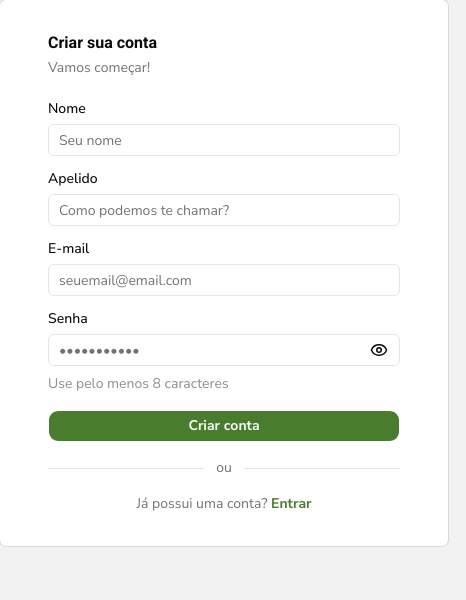
Scenario: RegisterForm › displays API error messages without navigating
The width and height of the screenshot is (466, 600).
Type "Maria Silva" into the field labelled "Nome" at (224, 140), box x1=48 y1=124 x2=400 y2=156
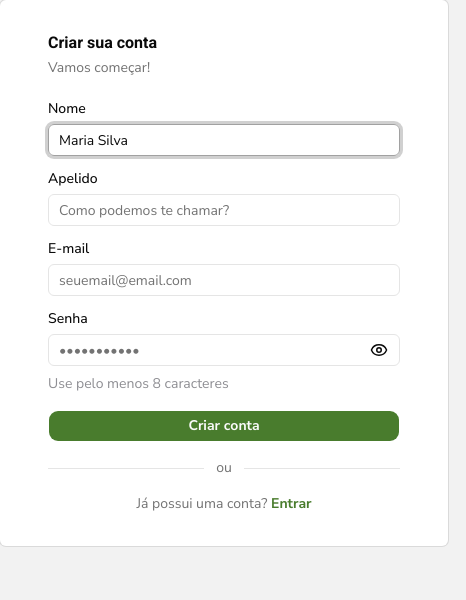
Type "Maria" into the field labelled "Apelido" at (224, 210), box x1=48 y1=194 x2=400 y2=226
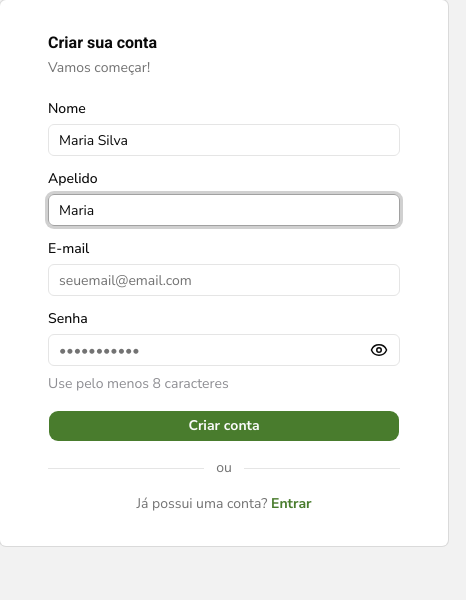
Type "maria@example.com" into the field labelled "E-mail" at (224, 280), box x1=48 y1=264 x2=400 y2=296
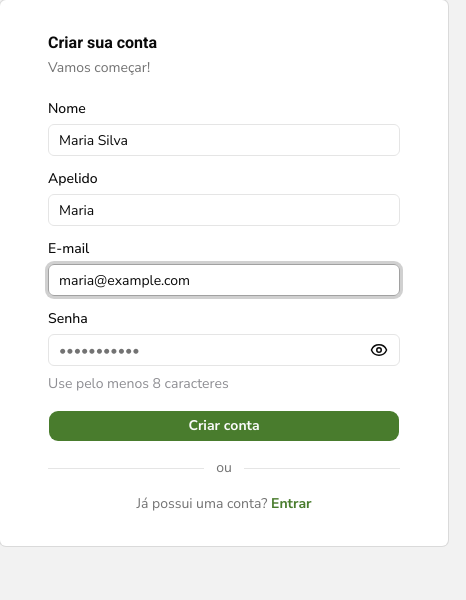
Type "senha1234" into the password field labelled "Senha" at (224, 350), box x1=48 y1=334 x2=400 y2=366
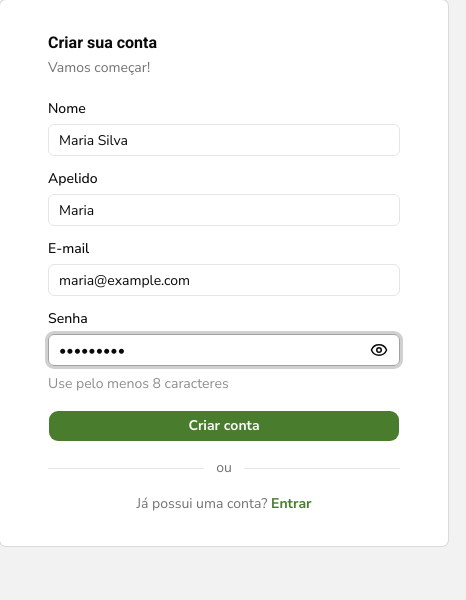
Click the button "Criar conta" at (224, 426), box x1=48 y1=410 x2=400 y2=442
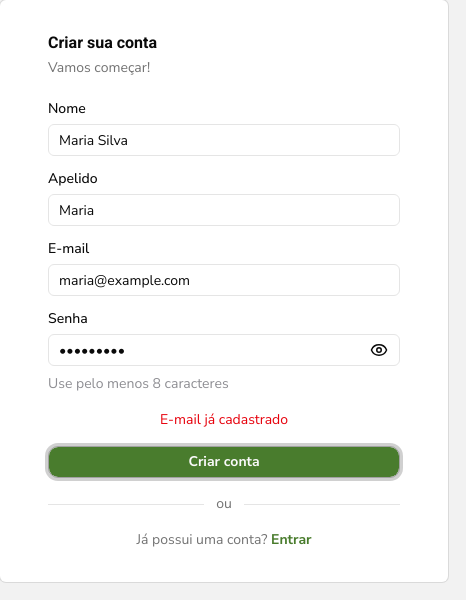
Now the text "E-mail já cadastrado" is shown, box x1=160 y1=410 x2=288 y2=429
